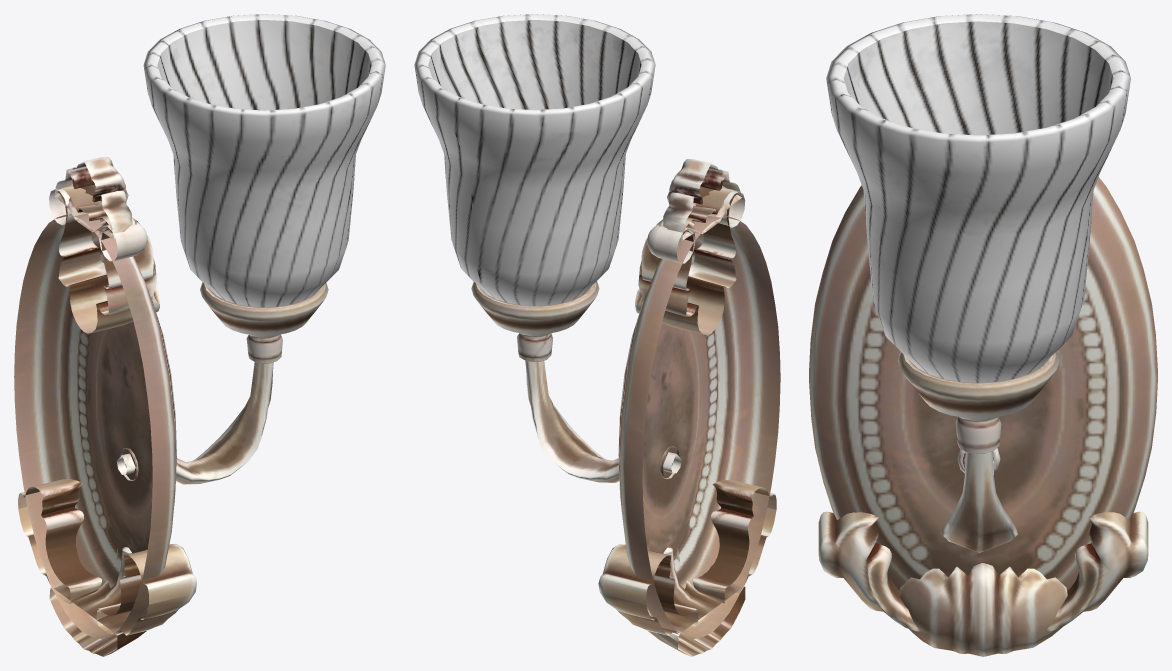
The model's file is MSH_Deco_Sconce_01.FBX.
The picture shows the model from 3 angles, left to right: view 1: azimuth 30°, elevation 25°; view 2: azimuth 150°, elevation 25°; view 3: azimuth 270°, elevation 25°; orthographic projection. The views are drawn at different scales.
Parts seen in each view (by area): view 1: MSH_Deco_Sconce_01; view 2: MSH_Deco_Sconce_01; view 3: MSH_Deco_Sconce_01.
Part boxes in pixels (x1=…): MSH_Deco_Sconce_01: x1=14, y1=14, x2=385, y2=656; MSH_Deco_Sconce_01: x1=414, y1=14, x2=780, y2=656; MSH_Deco_Sconce_01: x1=809, y1=14, x2=1157, y2=656.
Size of what is drawn, in the model's own units: 33.75 by 28.52 by 61.8.
